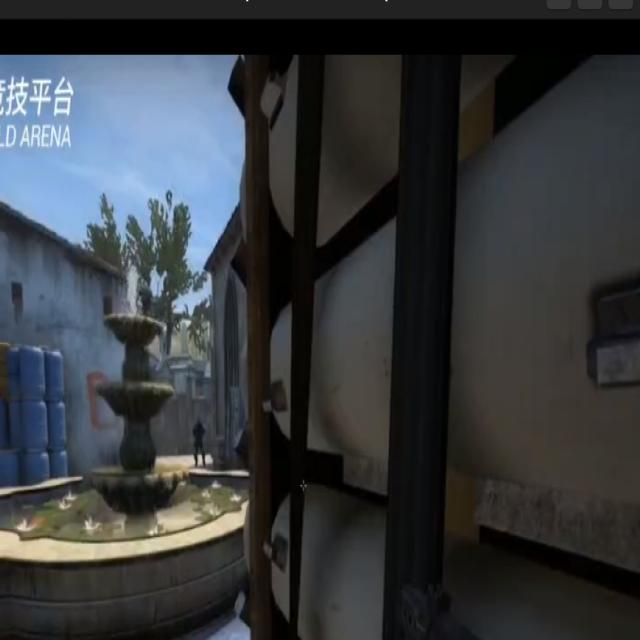person: (192, 418, 205, 466)
